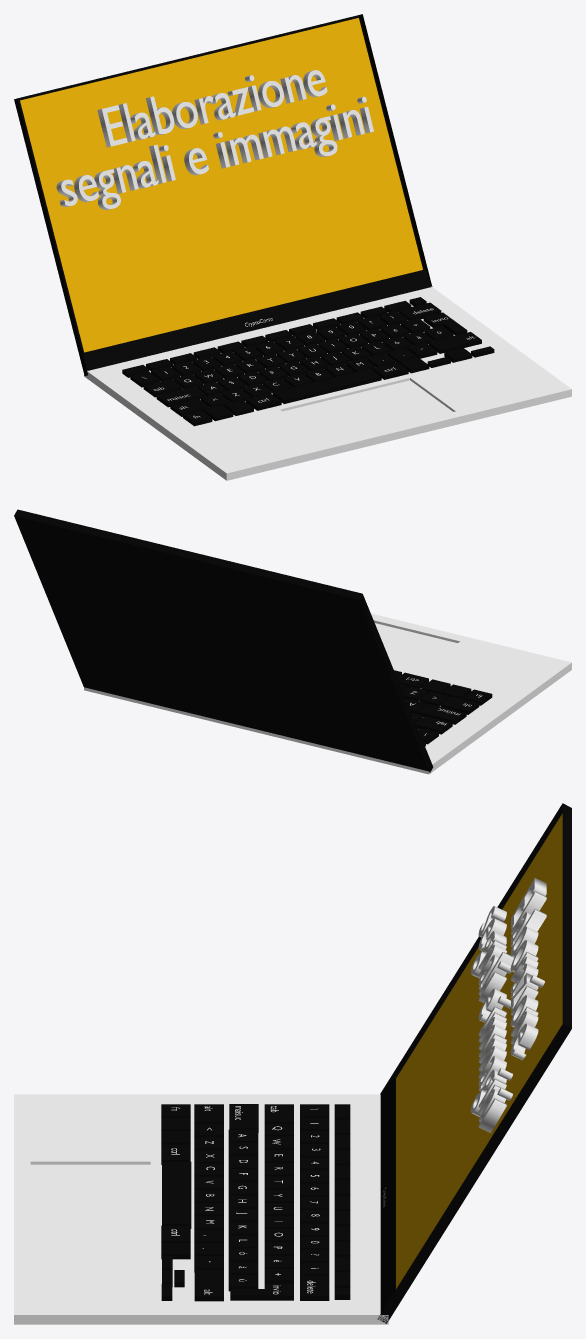
File: esi.glb
The picture shows the model from 3 angles, top to bottom: view 1: azimuth 30°, elevation 25°; view 2: azimuth 150°, elevation 25°; view 3: azimuth 270°, elevation 25°; orthographic projection. The views are drawn at different scales.
Parts seen in each view (by area): view 1: Cube.073, Cube, Text.001, Cube.074, Text, Cube.001, Cube.072, Cube.123; view 2: Cube.001, Cube, Cube.065, Cube.064, Cube.066, Cube.071; view 3: Cube, Cube.073, Cube.001, Text.001, Text, Cube.074, Cube.072, Cube.123, Cube.065, Cube.027.
Part boxes in pixels (bbox=[...]): Cube.073: bbox=[20, 18, 422, 352]; Cube: bbox=[84, 286, 571, 480]; Text.001: bbox=[56, 96, 373, 209]; Cube.074: bbox=[82, 269, 431, 370]; Text: bbox=[97, 70, 327, 147]; Cube.001: bbox=[14, 14, 432, 375]; Cube.072: bbox=[272, 368, 381, 403]; Cube.123: bbox=[428, 332, 481, 353]; Cube.001: bbox=[14, 509, 433, 772]; Cube: bbox=[84, 613, 571, 774]; Cube.065: bbox=[417, 703, 466, 724]; Cube.064: bbox=[440, 696, 479, 714]; Cube.066: bbox=[415, 716, 452, 734]; Cube.071: bbox=[397, 672, 428, 688]; Cube: bbox=[14, 1094, 388, 1324]; Cube.073: bbox=[396, 813, 562, 1288]; Cube.001: bbox=[377, 803, 571, 1323]; Text.001: bbox=[470, 906, 513, 1132]; Text: bbox=[510, 878, 546, 1060]; Cube.074: bbox=[380, 1077, 396, 1313]; Cube.072: bbox=[162, 1161, 191, 1228]; Cube.123: bbox=[194, 1269, 223, 1301]; Cube.065: bbox=[229, 1104, 258, 1132]; Cube.027: bbox=[300, 1276, 329, 1300].
Bounding box in the file's own units: 6.79 × 4.31 × 7.25.
